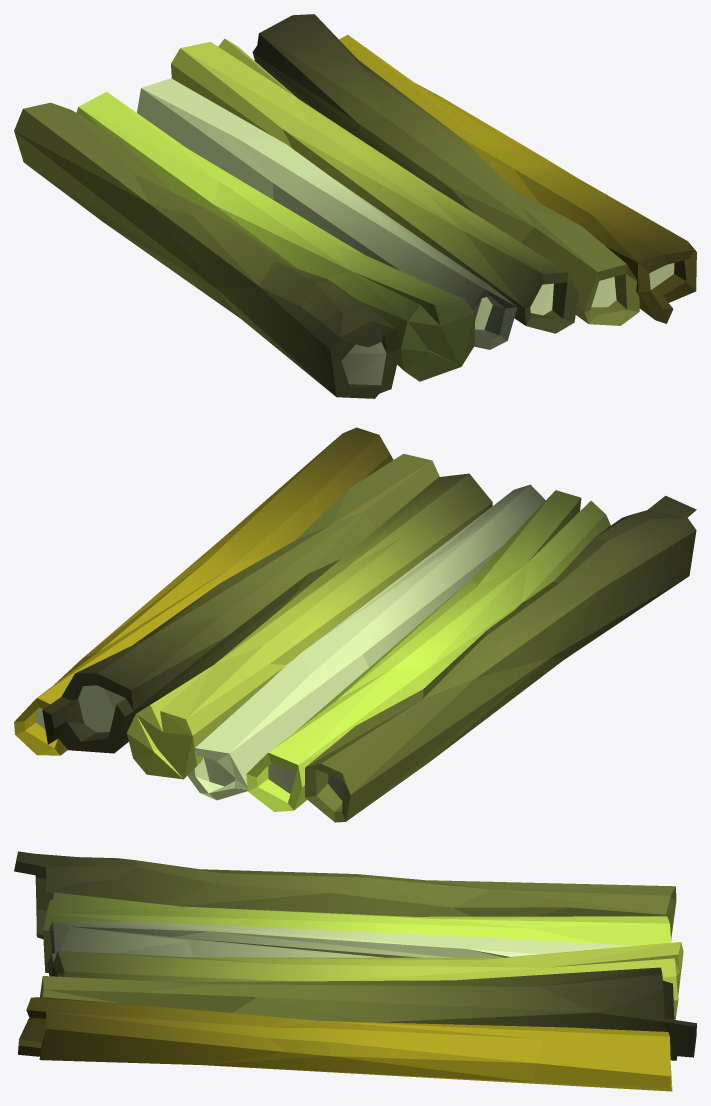
Rendered from Model_Craft.fbx.
3 views of the same model, one above another, from view 1: azimuth 30°, elevation 25°; view 2: azimuth 150°, elevation 25°; view 3: azimuth 270°, elevation 25° (orthographic). The views are drawn at different scales.
Visible parts, largest first — view 1: EA04_Wehicule_Raft_01a_LOD2; view 2: EA04_Wehicule_Raft_01a_LOD2; view 3: EA04_Wehicule_Raft_01a_LOD2.
Boxes of the visible parts, x1,y1,x2,y2 form: EA04_Wehicule_Raft_01a_LOD2: [14, 14, 696, 398]; EA04_Wehicule_Raft_01a_LOD2: [14, 427, 696, 822]; EA04_Wehicule_Raft_01a_LOD2: [14, 851, 696, 1091].
Bounding box in the file's own units: 277 × 71.36 × 459.
Materials: 1 (1 with a texture image).
